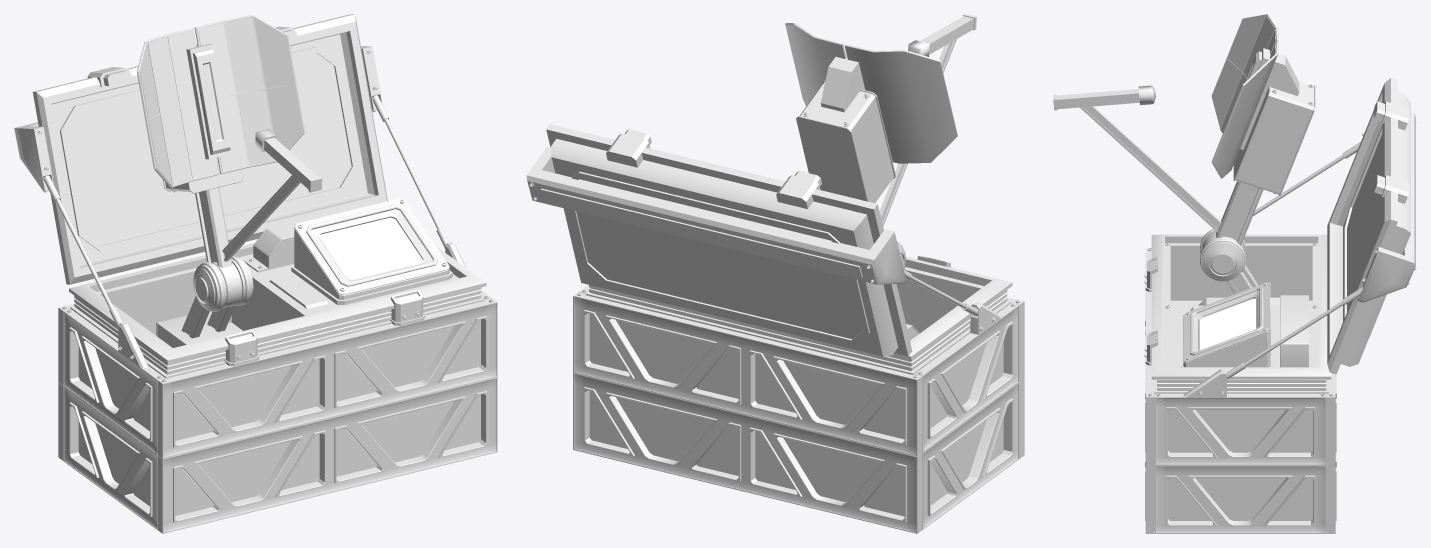
File: KB3D_FTW_PropMobileRadar_B_grp.glb
3 renders of one model, left to right at view 1: azimuth 30°, elevation 25°; view 2: azimuth 150°, elevation 25°; view 3: azimuth 270°, elevation 25°, orthographic. The views are drawn at different scales.
Visible parts, largest first — view 1: KB3D_FTW_PropMobileRadar_B_Main; view 2: KB3D_FTW_PropMobileRadar_B_Main; view 3: KB3D_FTW_PropMobileRadar_B_Main.
Boxes of the visible parts, x1,y1,x2,y2 form: KB3D_FTW_PropMobileRadar_B_Main: [14, 14, 497, 533]; KB3D_FTW_PropMobileRadar_B_Main: [526, 14, 1024, 533]; KB3D_FTW_PropMobileRadar_B_Main: [1053, 14, 1416, 533].
Bounding box in the file's own units: 1.84 × 2.24 × 1.87.
Materials: 7 (1 with a texture image).
